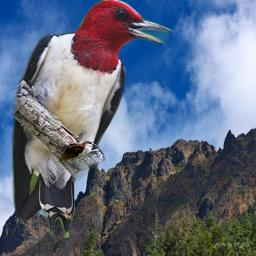Cuckoo: (58, 126, 96, 163)
Woodpecker: (6, 0, 177, 238)
